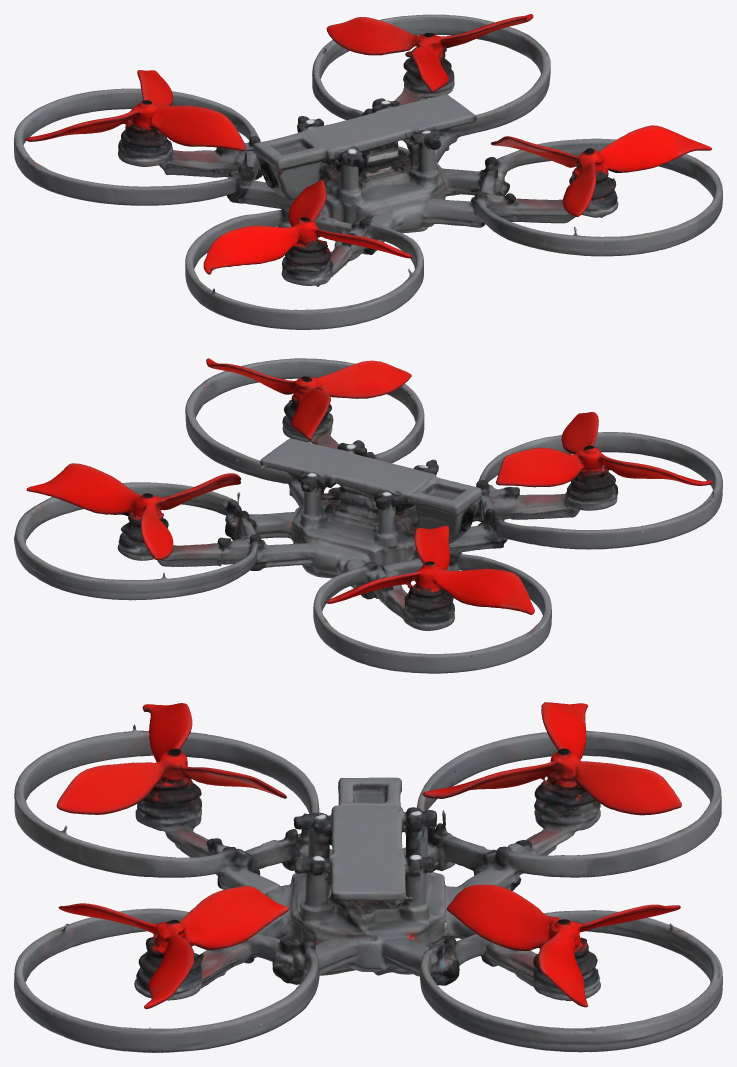
The model's file is quad_25.glb.
The picture shows the model from 3 angles, top to bottom: view 1: azimuth 30°, elevation 25°; view 2: azimuth 150°, elevation 25°; view 3: azimuth 270°, elevation 25°; orthographic projection. The views are drawn at different scales.
Bounding box in the file's own units: 2 × 0.3929 × 1.98.
Materials: 1 (1 with a texture image).
